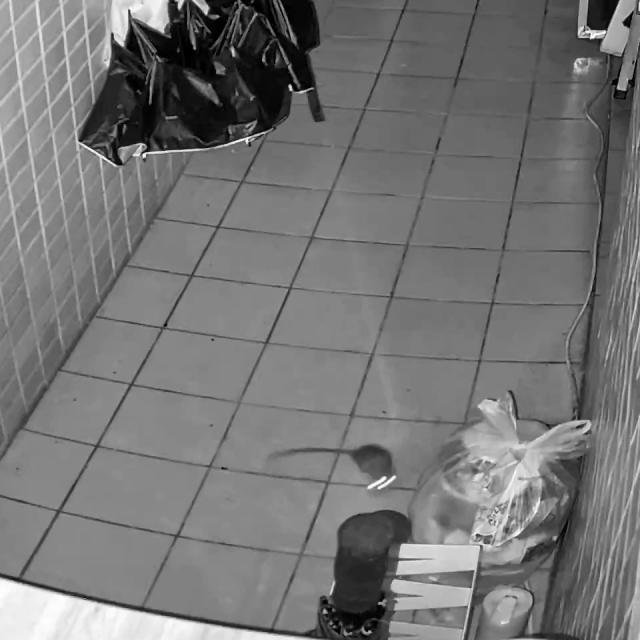rat: (264, 442, 398, 494)
